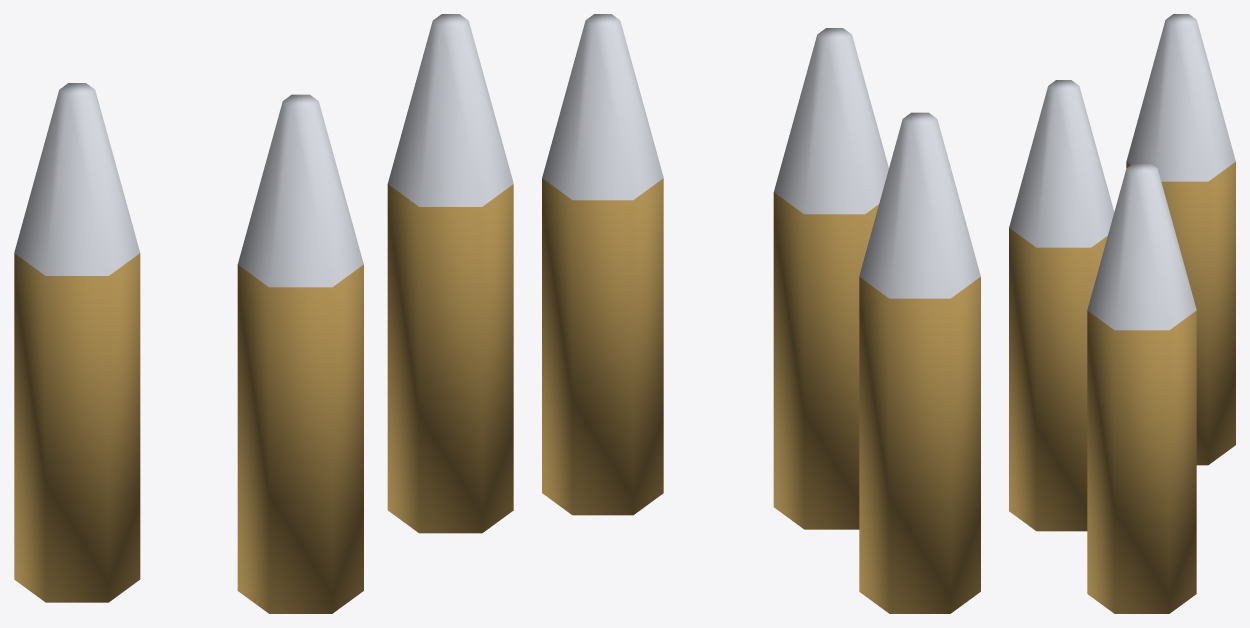
File: silver_bullet.glb
The picture shows the model from 3 angles, left to right: view 1: azimuth 30°, elevation 25°; view 2: azimuth 150°, elevation 25°; view 3: azimuth 270°, elevation 25°; orthographic projection. The views are drawn at different scales.
Parts seen in each view (by area): view 1: silver_bullet_v0; view 2: silver_bullet_v0; view 3: silver_bullet_v0.
Part boxes in pixels (x1,y1,x2,y2): silver_bullet_v0: (14, 14, 513, 613); silver_bullet_v0: (542, 14, 980, 613); silver_bullet_v0: (1009, 14, 1235, 613).
Bounding box in the file's own units: 0.1142 × 0.12 × 0.058.
